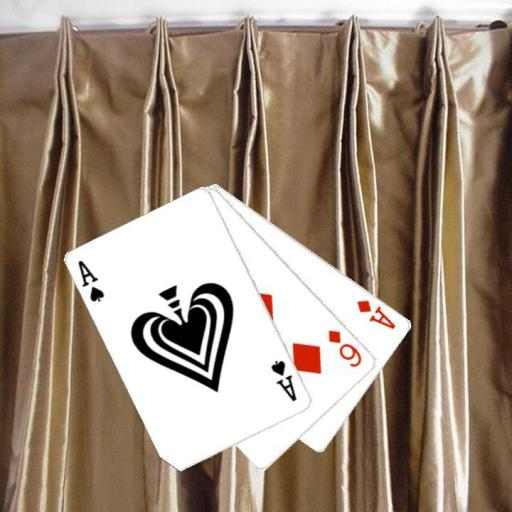6D: (325, 326, 364, 369)
AD: (354, 297, 398, 331)
AS: (75, 257, 107, 304), (268, 357, 299, 403)
